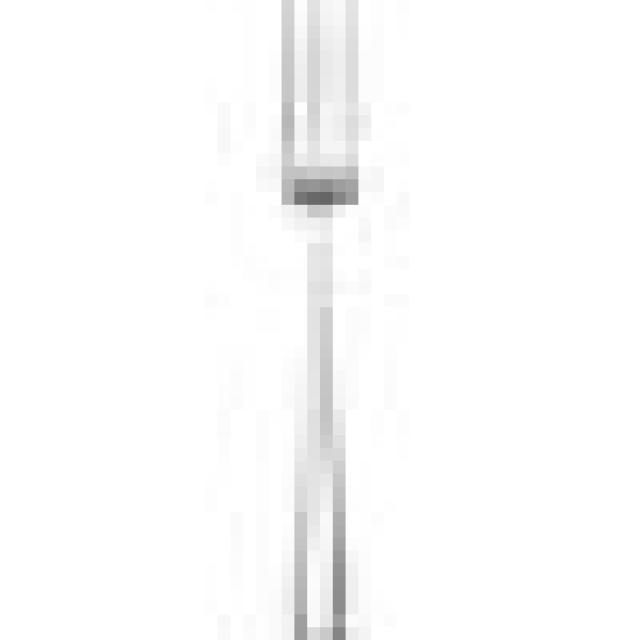Knife: (269, 0, 358, 627)
